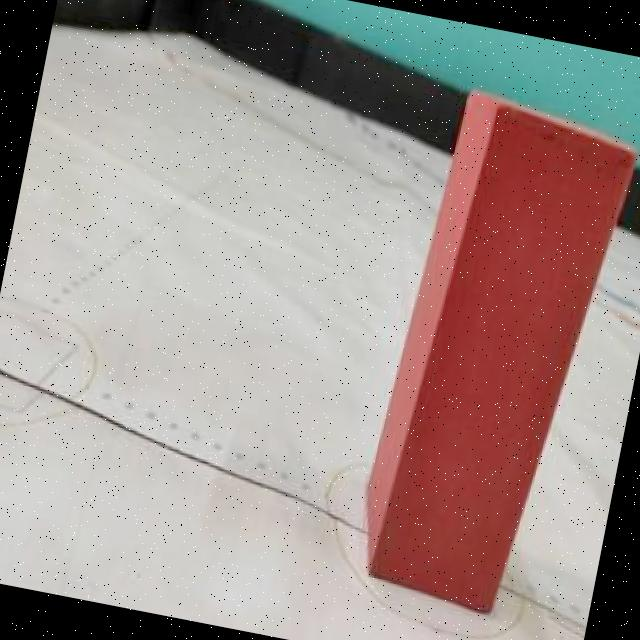redbox: (346, 80, 640, 623)
